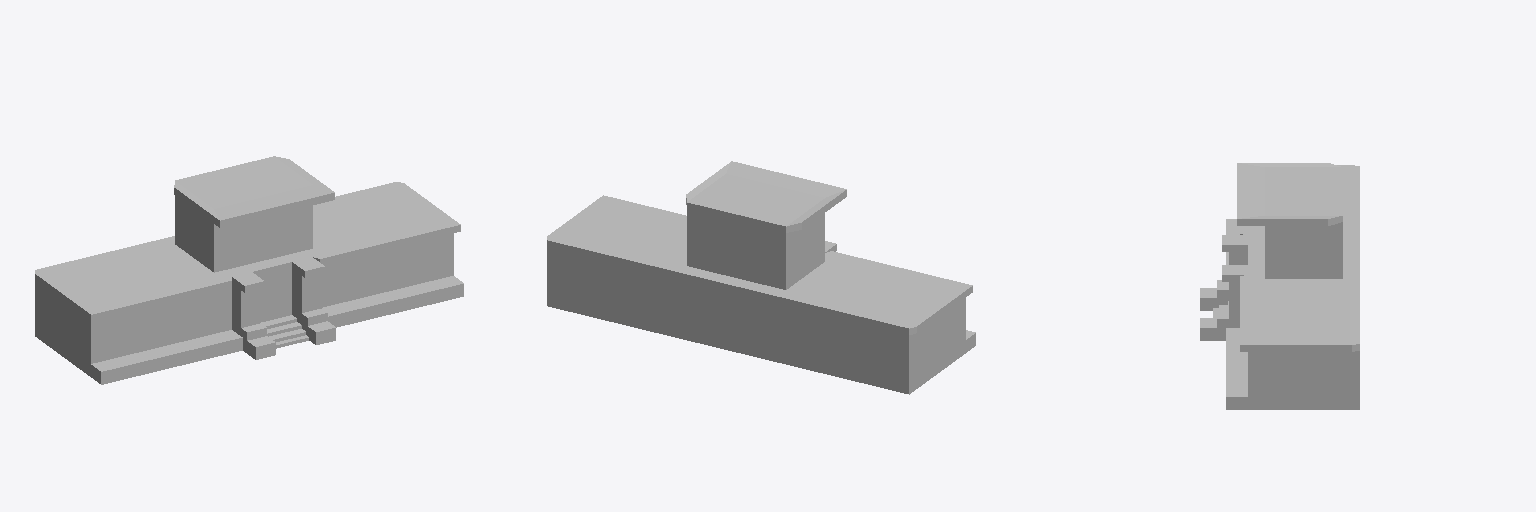
Rendered from hospital.obj.
The picture shows the model from 3 angles: view 1: azimuth 30°, elevation 25°; view 2: azimuth 150°, elevation 25°; view 3: azimuth 270°, elevation 25°; orthographic projection.
Visible parts, largest first — view 1: Plane.001; view 2: Plane.001; view 3: Plane.001.
Boxes of the visible parts, x1=… form: Plane.001: x1=35, y1=156, x2=463, y2=384; Plane.001: x1=547, y1=161, x2=975, y2=394; Plane.001: x1=1200, y1=163, x2=1359, y2=409.
Bounding box in the file's own units: 27.58 × 9.28 × 10.36.